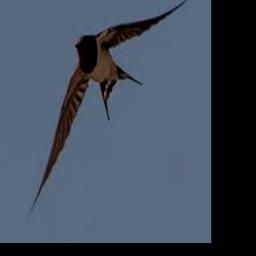Swallow: (27, 0, 189, 219)
